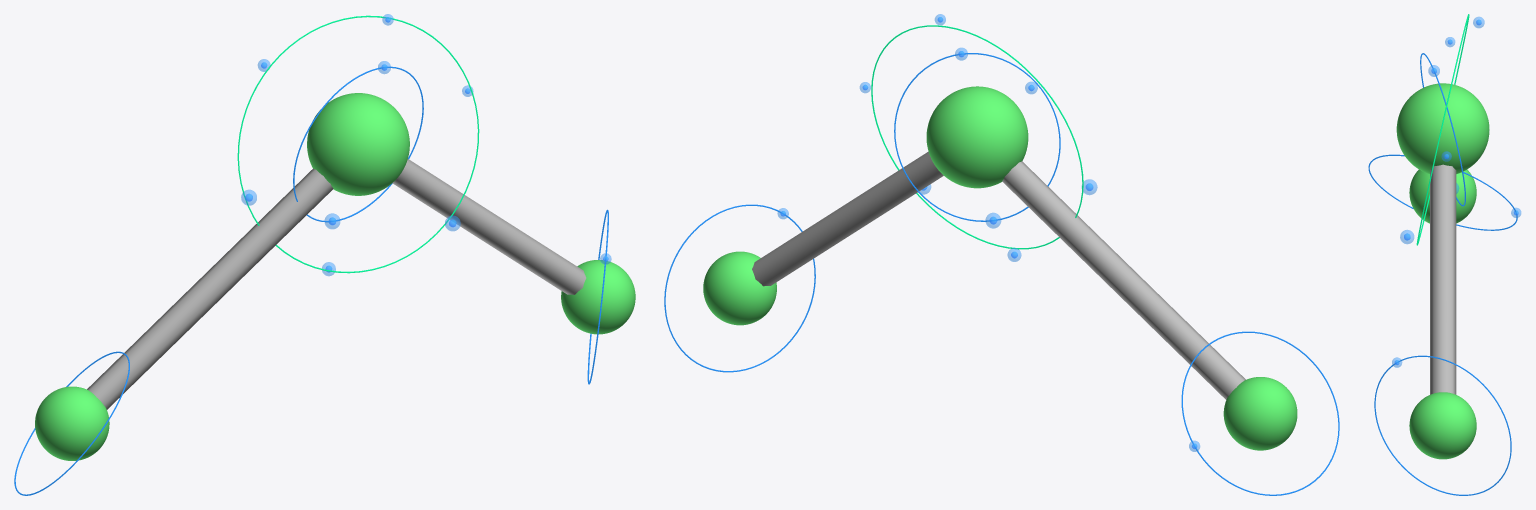
The picture shows the model from 3 angles, left to right: view 1: azimuth 30°, elevation 25°; view 2: azimuth 150°, elevation 25°; view 3: azimuth 270°, elevation 25°; orthographic projection. The views are drawn at different scales.
Parts seen in each view (by area): view 1: object 28, H (×2), O, object 29, object 11, object 6; view 2: object 28, H (×2), O, object 29, object 11, object 2, object 6, object 25; view 3: O, object 29, H (×2), object 25, object 11, object 2, object 6.
Part boxes in pixels (x1,y1,x2,y2): object 28: (87, 168, 333, 409); H (×2): (35, 260, 635, 460); O: (307, 93, 409, 195); object 29: (392, 159, 586, 294); object 11: (237, 15, 479, 273); object 6: (293, 66, 423, 222); object 28: (1002, 161, 1245, 399); H (×2): (703, 251, 1297, 450); O: (926, 86, 1028, 188); object 29: (752, 151, 943, 286); object 11: (871, 25, 1083, 249); object 2: (1181, 331, 1339, 495); object 6: (894, 53, 1060, 221); object 25: (664, 204, 815, 372); O: (1396, 83, 1489, 173); object 29: (1430, 164, 1456, 394); H (×2): (1409, 169, 1476, 459); object 25: (1374, 355, 1511, 495); object 11: (1416, 14, 1469, 245); object 2: (1368, 154, 1517, 230); object 6: (1420, 53, 1465, 206).
Bounding box in the file's own units: 9.88 × 6.21 × 2.33.
